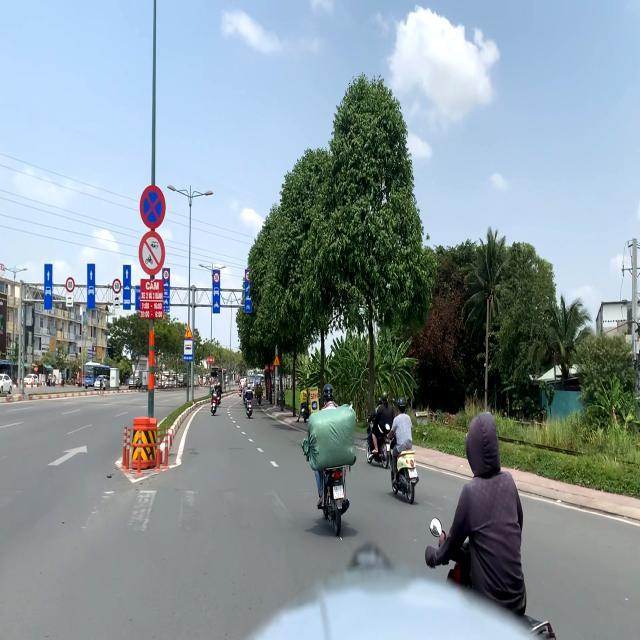P-104: (138, 230, 166, 273)
P-130: (140, 184, 166, 227)
